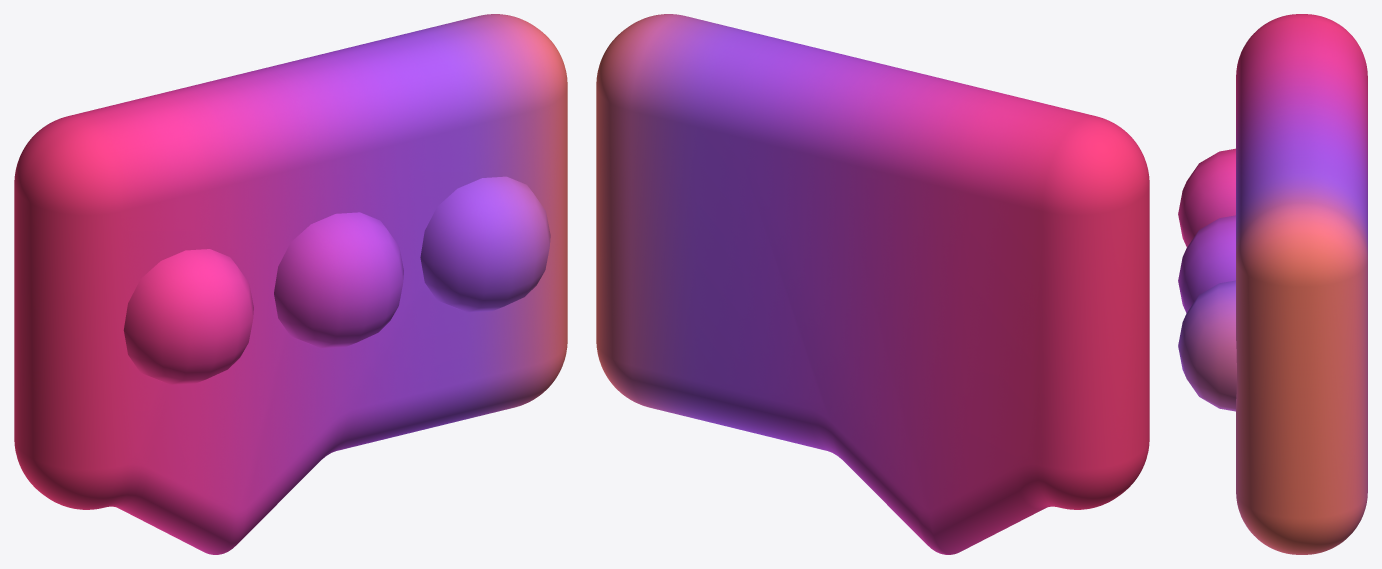
Rendered from message.glb.
3 views of the same model, side by side, from view 1: azimuth 30°, elevation 25°; view 2: azimuth 150°, elevation 25°; view 3: azimuth 270°, elevation 25° (orthographic). The views are drawn at different scales.
Visible parts, largest first — view 1: Cube.019; view 2: Cube.019; view 3: Cube.019.
Boxes of the visible parts, x1,y1,x2,y2 form: Cube.019: (14, 14, 567, 554); Cube.019: (596, 14, 1149, 554); Cube.019: (1178, 14, 1367, 554).
Size of the model in its own units: 2.56 by 2.09 by 0.8676.
Materials: 1 (1 with a texture image).
